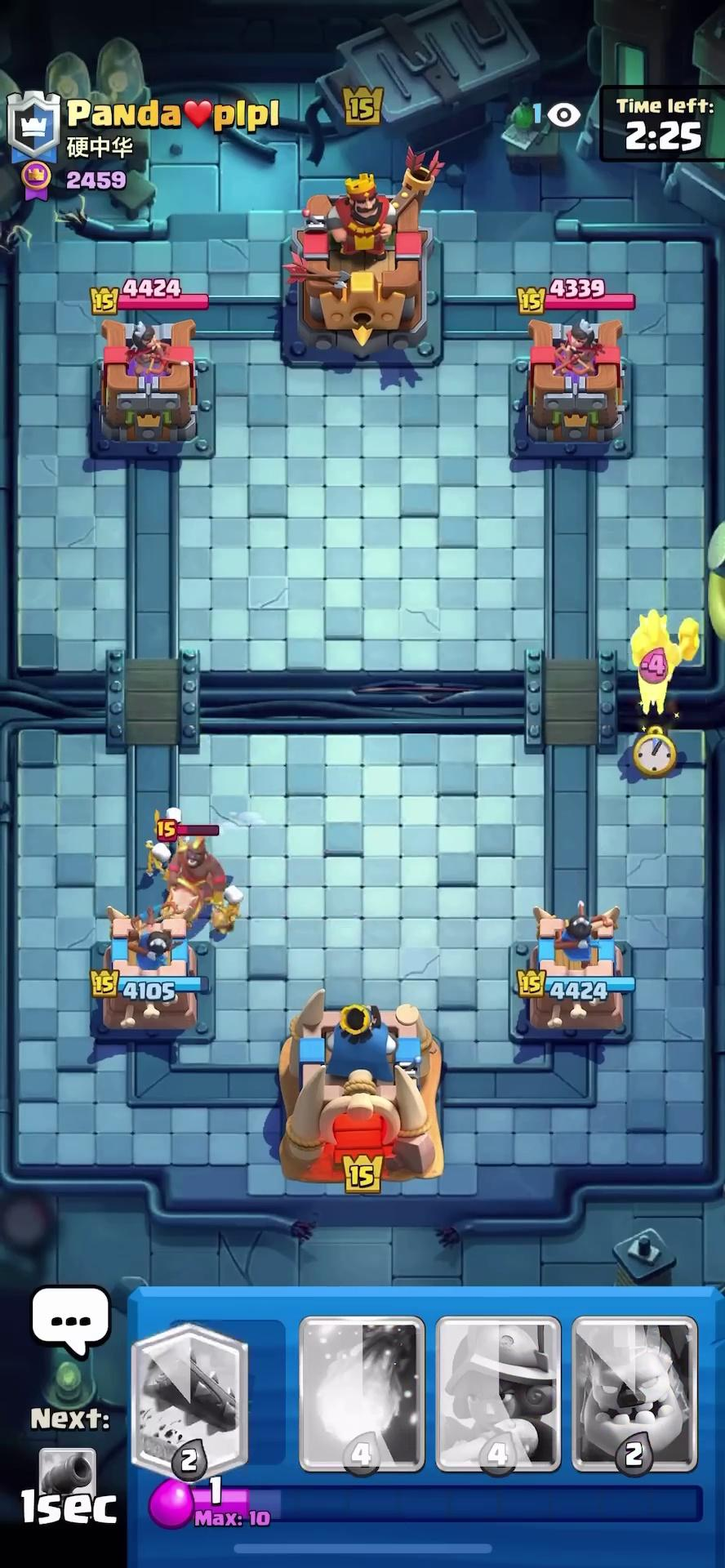hog_rider: (620, 602, 712, 717)
skeletons: (143, 794, 192, 870), (216, 878, 251, 927)
